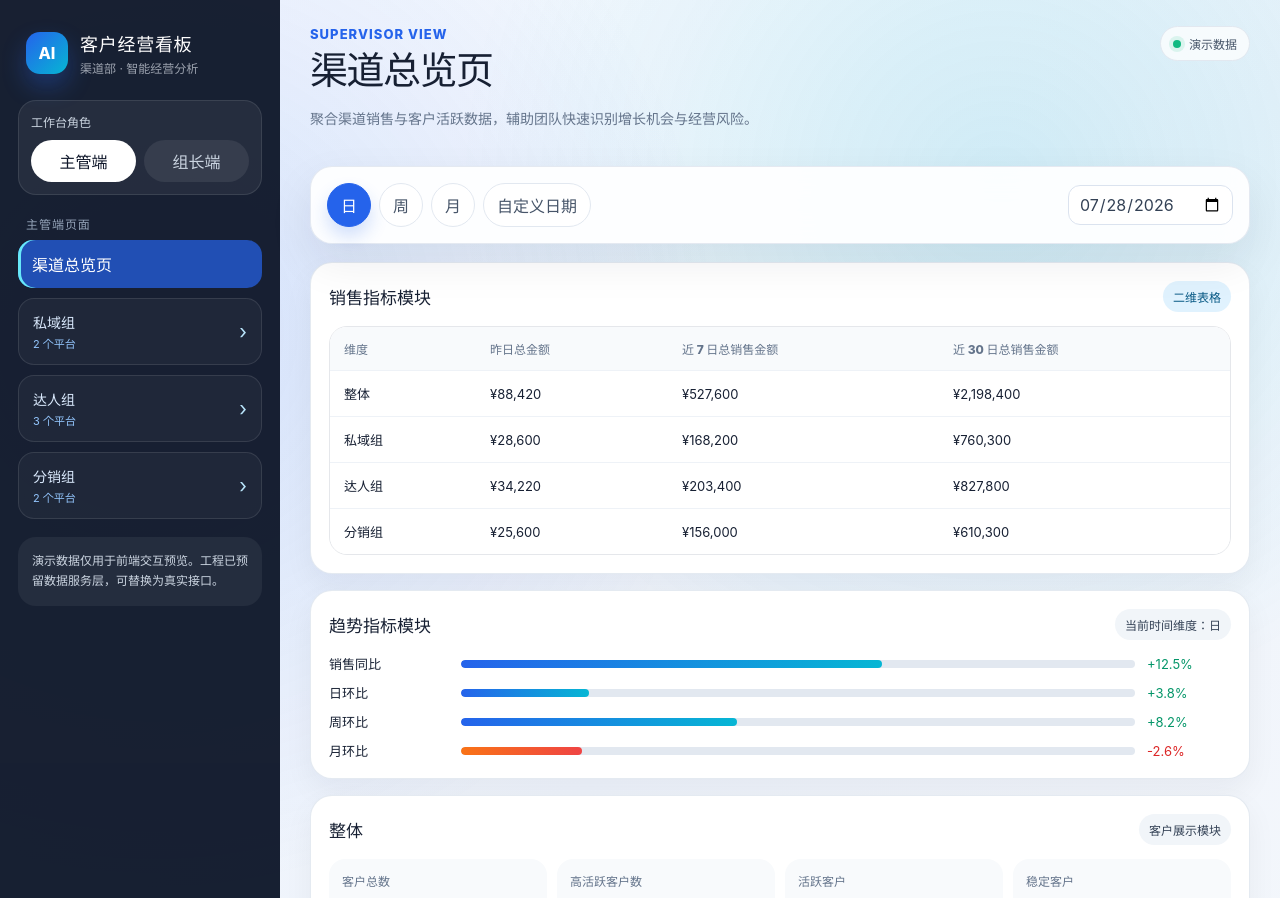
Scenario: customer dashboard › shows an empty state and resets all filters
Click the button "私域组 2 个平台 ›": click(140, 332) [19, 299, 261, 364]
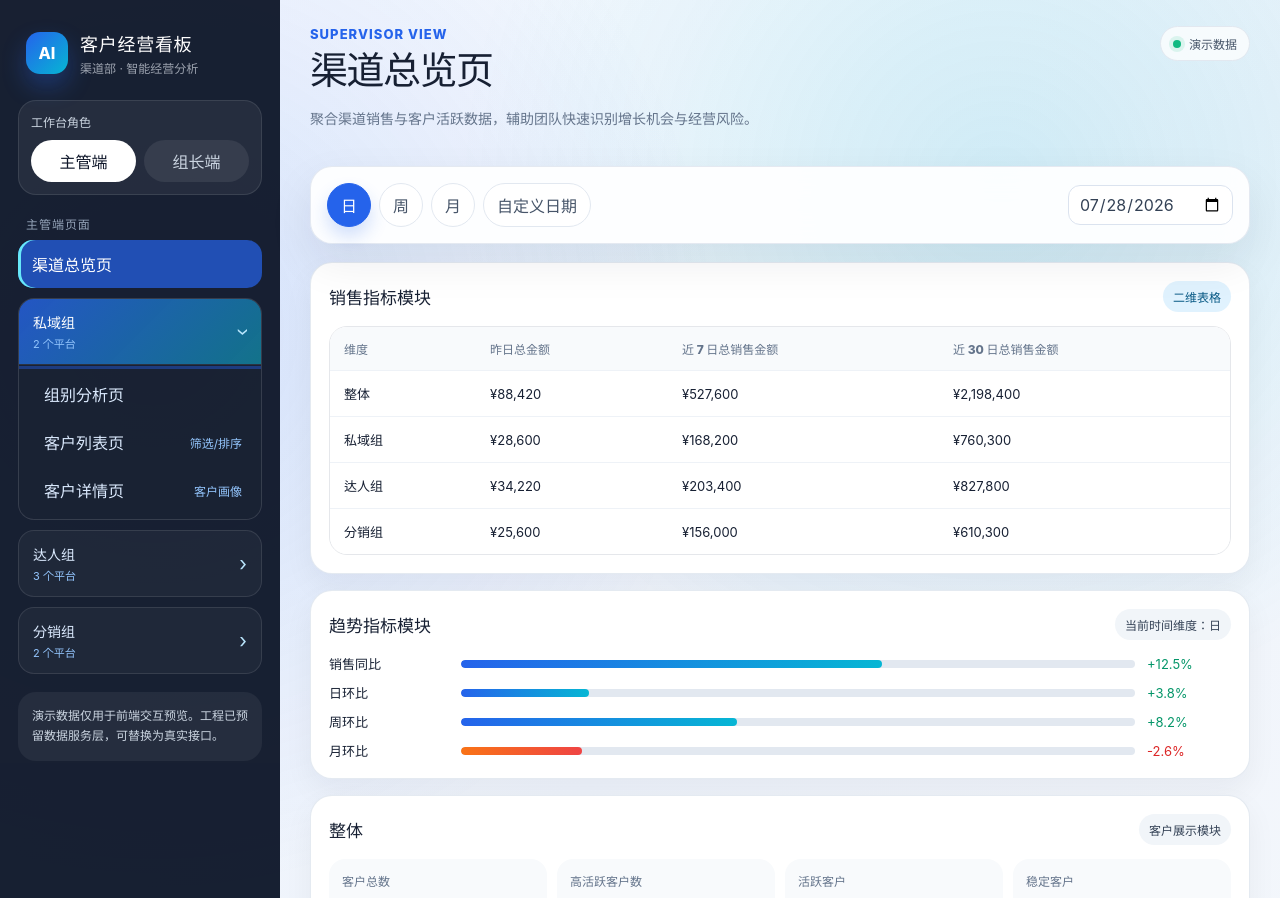
Click the button "客户列表页 筛选/排序": click(140, 442) [26, 420, 254, 464]
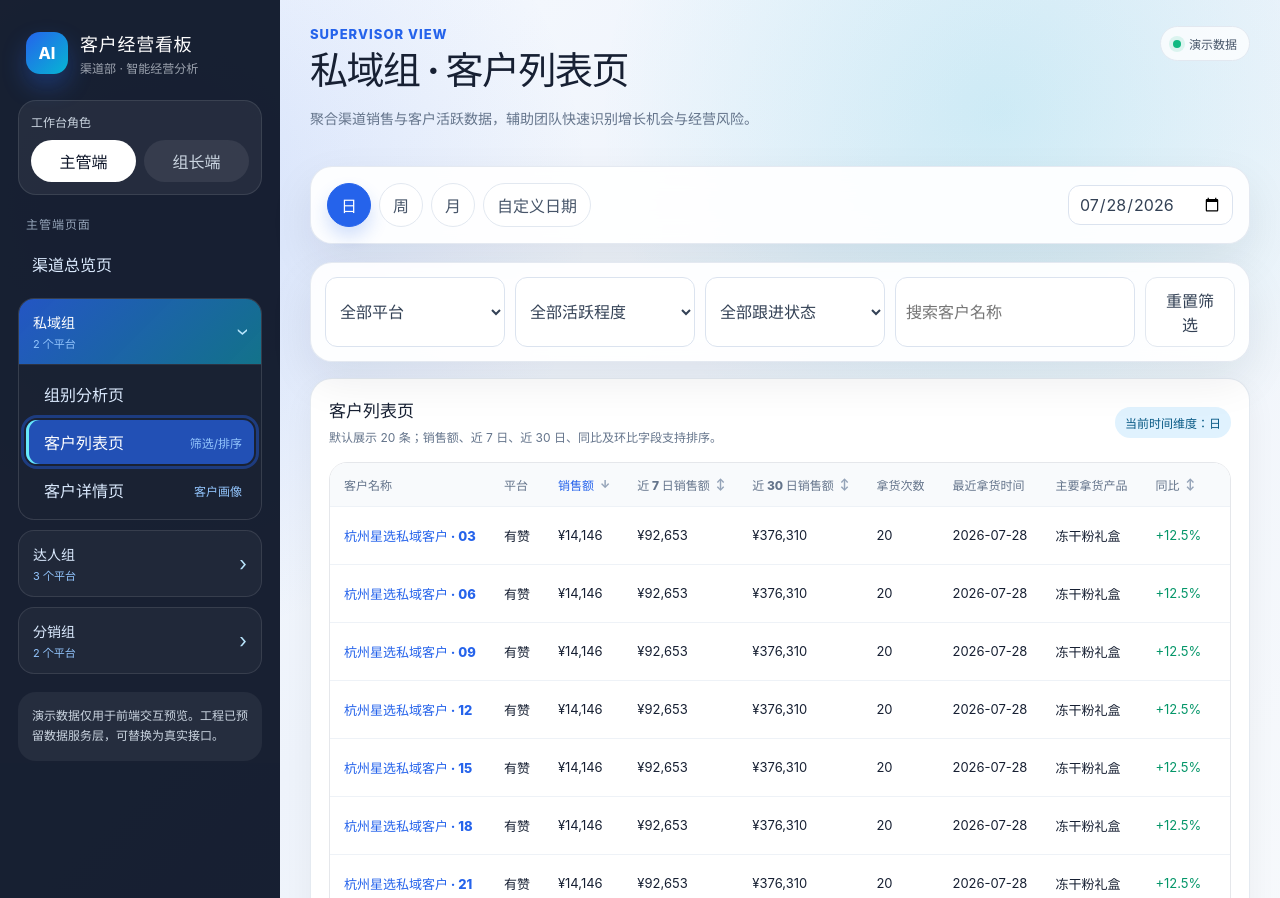
In the field labelled "搜索客户名称": (1015, 312) [895, 278, 1135, 348], type "不存在的客户"
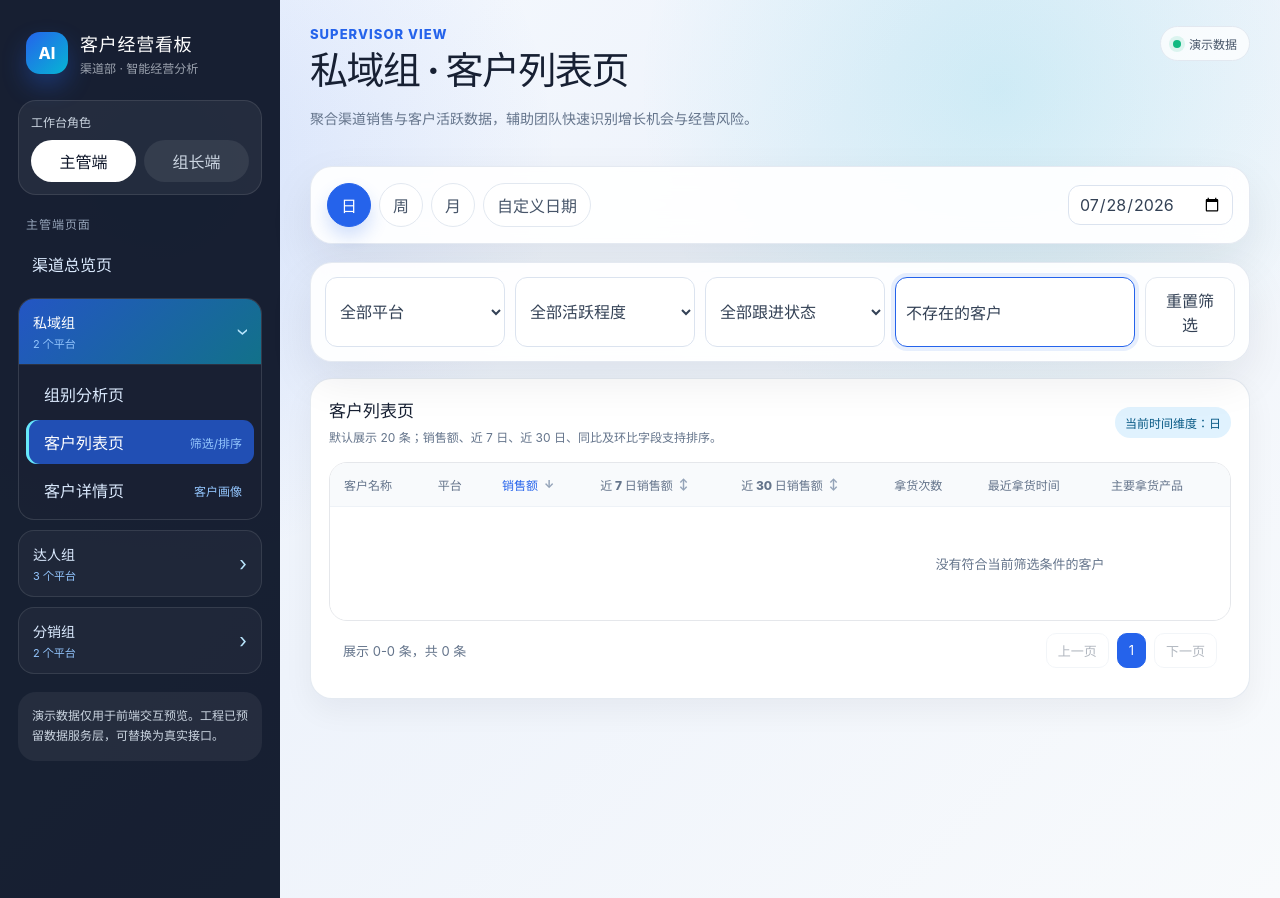
Result: the text "没有符合当前筛选条件的客户" is shown at [936, 556, 1104, 572]
Click the button "重置筛选": click(1190, 312) [1145, 278, 1235, 348]
(page scrolled)
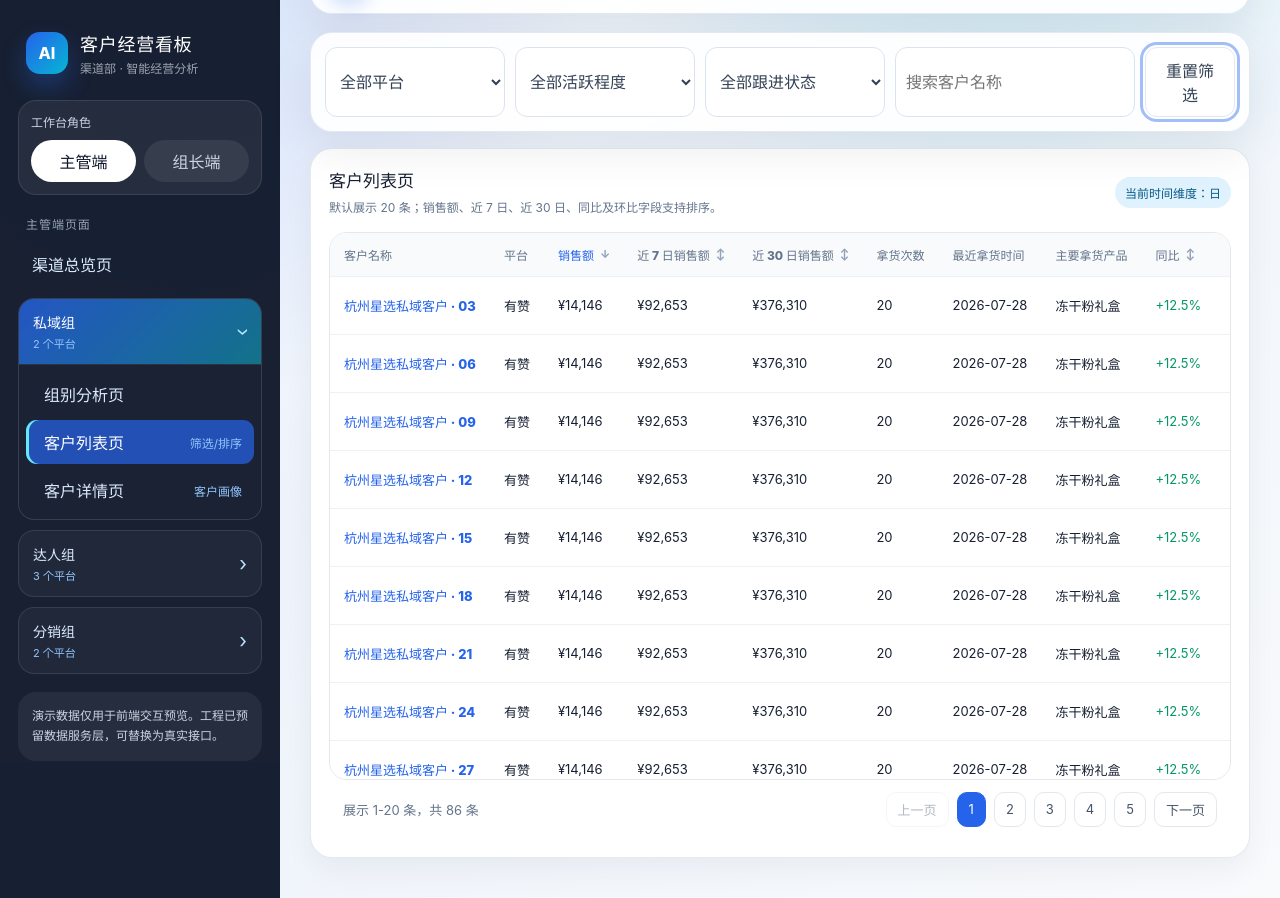
Result: the text "展示 1-20 条，共 86 条" is shown at [343, 800, 479, 819]
